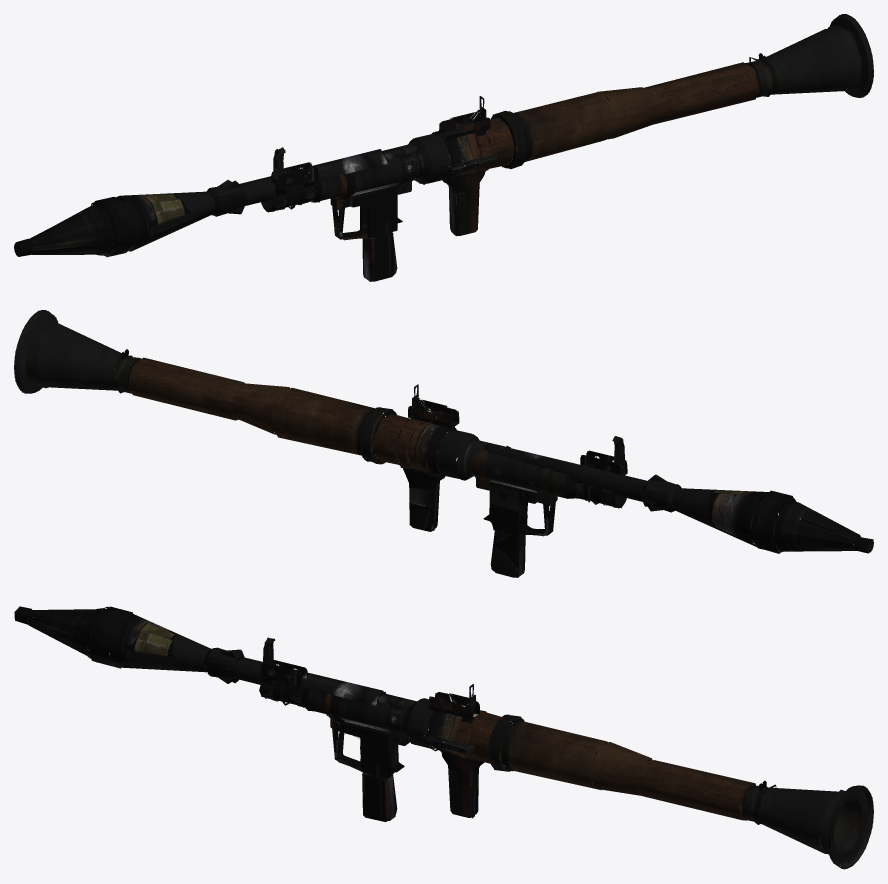
The model's file is rpg.fbx.
3 views of the same model, one above another, from view 1: azimuth 30°, elevation 25°; view 2: azimuth 150°, elevation 25°; view 3: azimuth 330°, elevation 25° (orthographic).
Parts seen in each view (by area): view 1: Mesh_0010, Mesh_0011; view 2: Mesh_0010, Mesh_0011; view 3: Mesh_0010, Mesh_0011.
Boxes of the visible parts, left/top/right/bottom form: Mesh_0010: left=261, top=14, right=873, bottom=281; Mesh_0011: left=14, top=121, right=512, bottom=257; Mesh_0010: left=14, top=310, right=627, bottom=577; Mesh_0011: left=374, top=421, right=873, bottom=553; Mesh_0010: left=259, top=637, right=873, bottom=869; Mesh_0011: left=14, top=606, right=511, bottom=740.
Size of the model in its own units: 0.00379 by 0.000696 by 0.000339.
